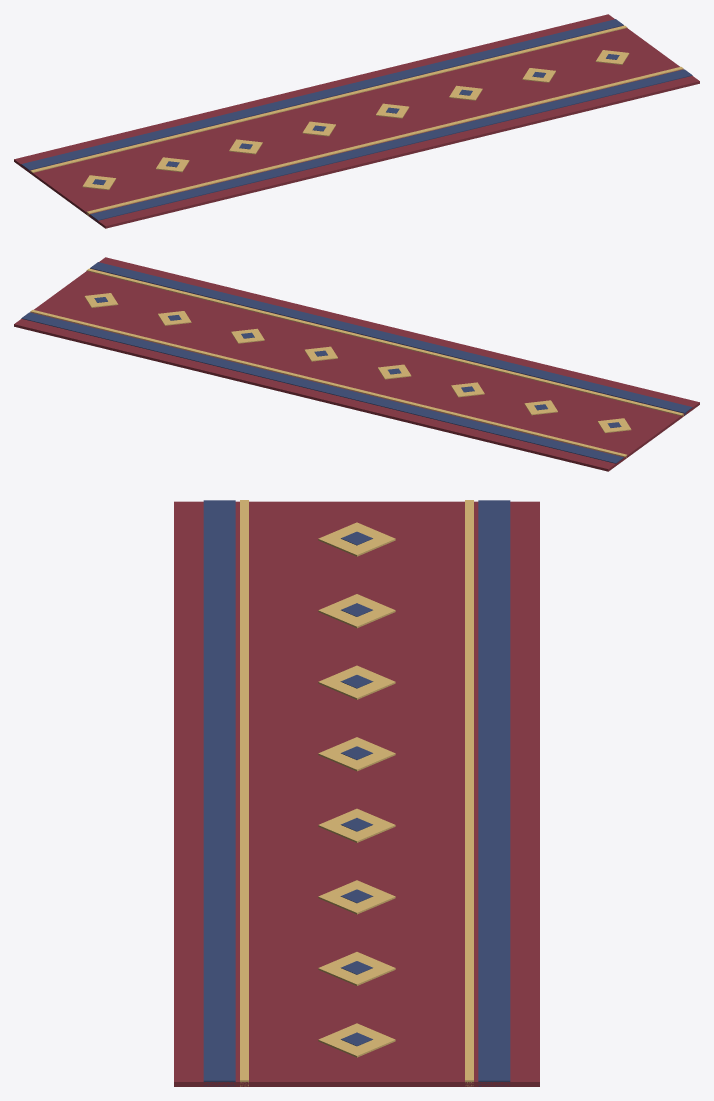
The model's file is floor_runner.glb.
3 renders of one model, top to bottom at view 1: azimuth 30°, elevation 25°; view 2: azimuth 150°, elevation 25°; view 3: azimuth 270°, elevation 25°, orthographic. The views are drawn at different scales.
Parts seen in each view (by area): view 1: floor_runner; view 2: floor_runner; view 3: floor_runner.
Boxes of the visible parts, left/top/right/bottom form: floor_runner: left=14, top=14, right=699, bottom=228; floor_runner: left=14, top=257, right=699, bottom=471; floor_runner: left=174, top=500, right=539, bottom=1086.
Bounding box in the file's own units: 3 × 0.017 × 0.8.
